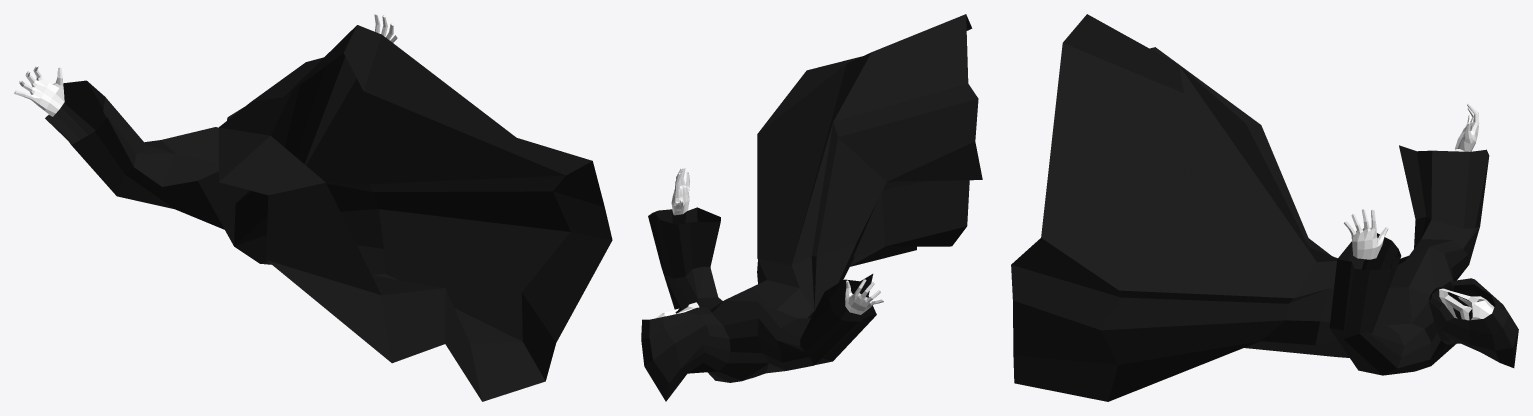
File: ReaperDead(71).obj
The picture shows the model from 3 angles, left to right: view 1: azimuth 30°, elevation 25°; view 2: azimuth 150°, elevation 25°; view 3: azimuth 270°, elevation 25°; orthographic projection. The views are drawn at different scales.
Visible parts, largest first — view 1: Plane003; view 2: Plane003; view 3: Plane003.
Part boxes in pixels (x1,y1,x2,y2): Plane003: (14,14,612,401); Plane003: (641,14,982,401); Plane003: (1011,14,1518,401).
Bounding box in the file's own units: 145 × 135 × 203.
